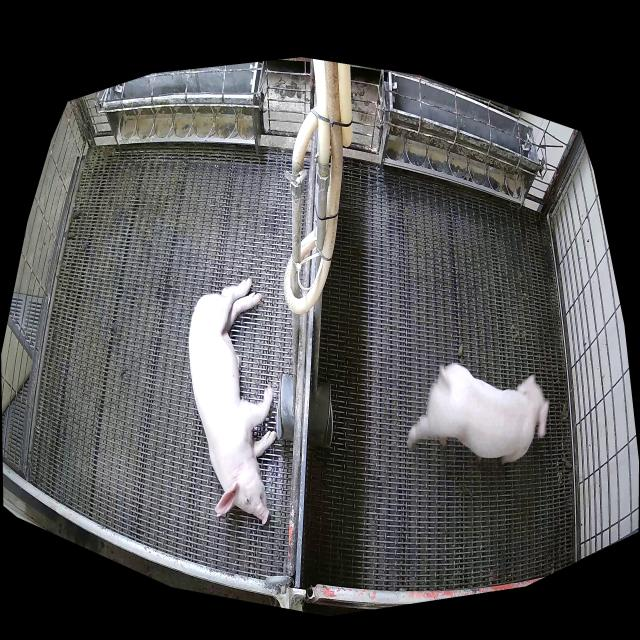pig: (190, 275, 275, 519), (407, 365, 548, 468)
